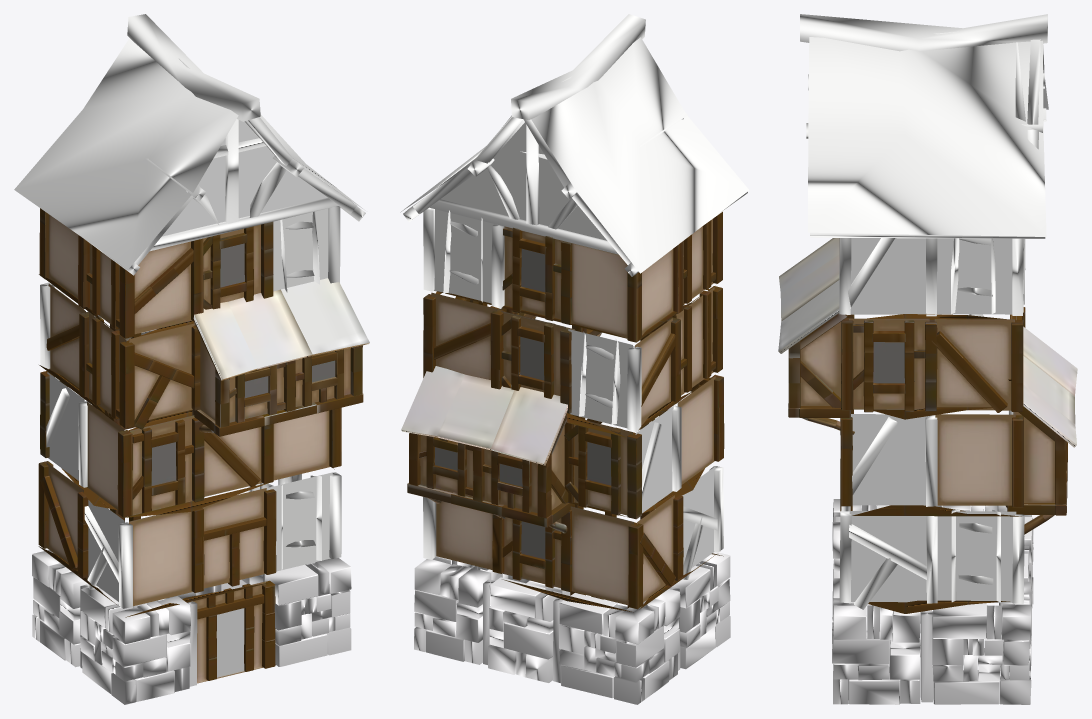
The picture shows the model from 3 angles, left to right: view 1: azimuth 30°, elevation 25°; view 2: azimuth 150°, elevation 25°; view 3: azimuth 270°, elevation 25°; orthographic projection. The views are drawn at different scales.
Parts seen in each view (by area): view 1: bay window 2.003, Cube.013, corner stone wall 1.009; view 2: bay window 2.003, Cube.013, corner stone wall 1.009; view 3: Cube.013, bay window 2.003, corner stone wall 1.009.
Part boxes in pixels (x1=…): bay window 2.003: x1=38, y1=208, x2=369, y2=683; Cube.013: x1=14, y1=14, x2=365, y2=608; corner stone wall 1.009: x1=32, y1=550, x2=351, y2=704; bay window 2.003: x1=401, y1=211, x2=724, y2=612; Cube.013: x1=400, y1=14, x2=749, y2=579; corner stone wall 1.009: x1=414, y1=551, x2=730, y2=704; Cube.013: x1=800, y1=14, x2=1048, y2=609; bay window 2.003: x1=778, y1=238, x2=1077, y2=613; corner stone wall 1.009: x1=832, y1=499, x2=1033, y2=704.
Bounding box in the file's own units: 7.49 × 17.25 × 7.44.
3 materials, 1 textured.
